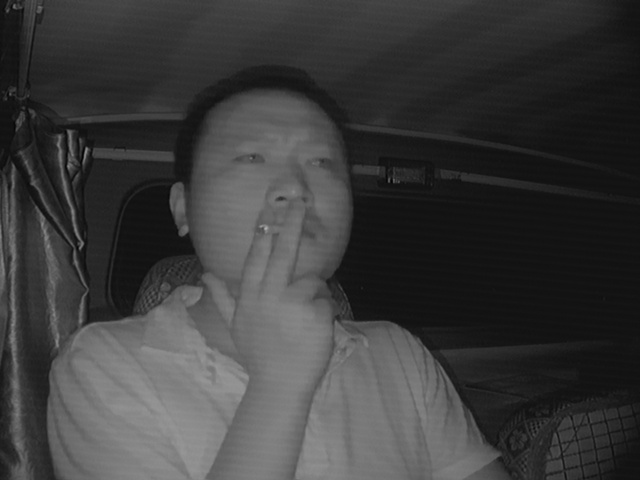hand: (237, 205, 344, 339)
